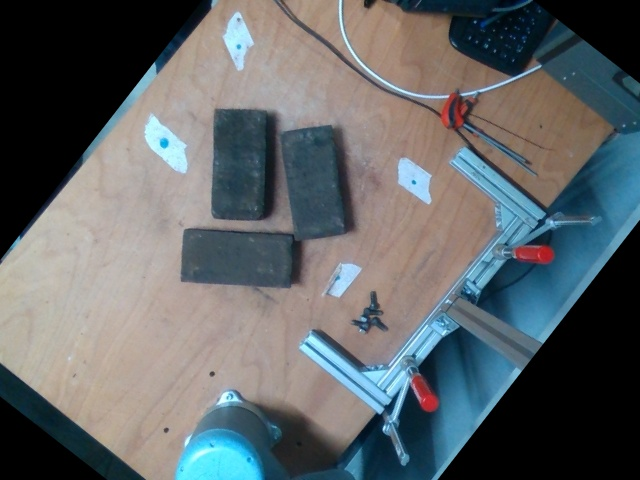brick: (281, 124, 343, 240), (209, 106, 265, 219), (178, 230, 290, 284)
